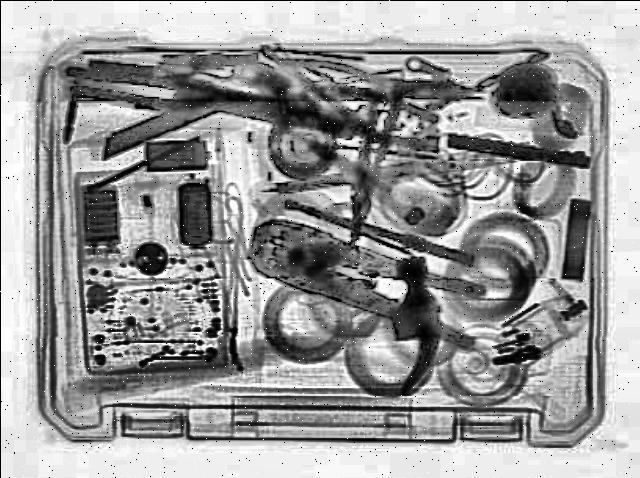Pliers: (226, 209, 514, 347), (276, 64, 450, 152), (339, 79, 405, 241)
